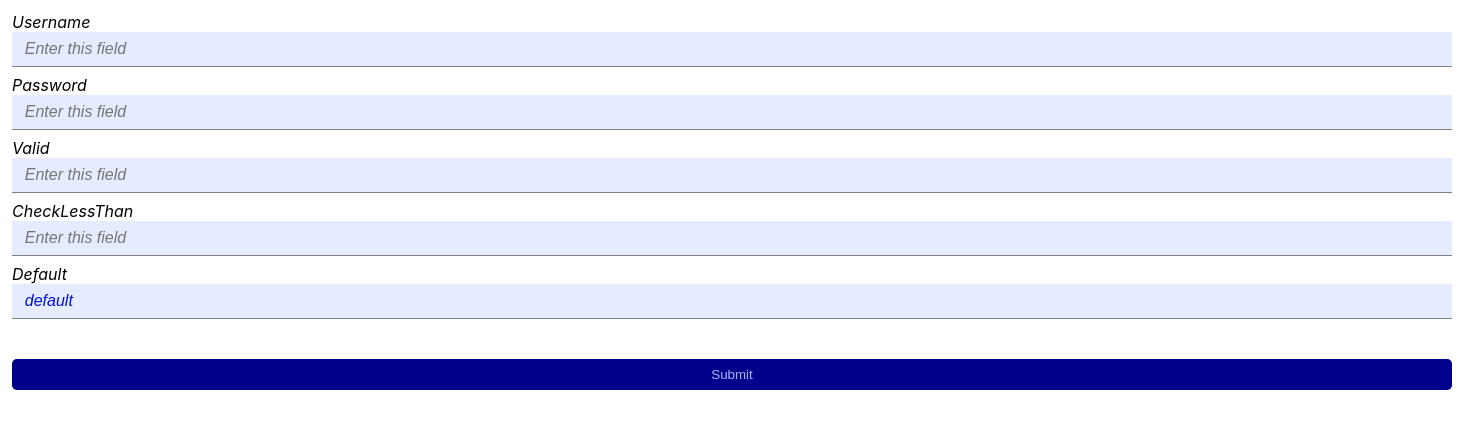
Test: Form testing › should raise error when must match field does not match
Type "password" into the password field with test id "password" at [732, 112], box [12,95,1452,130]
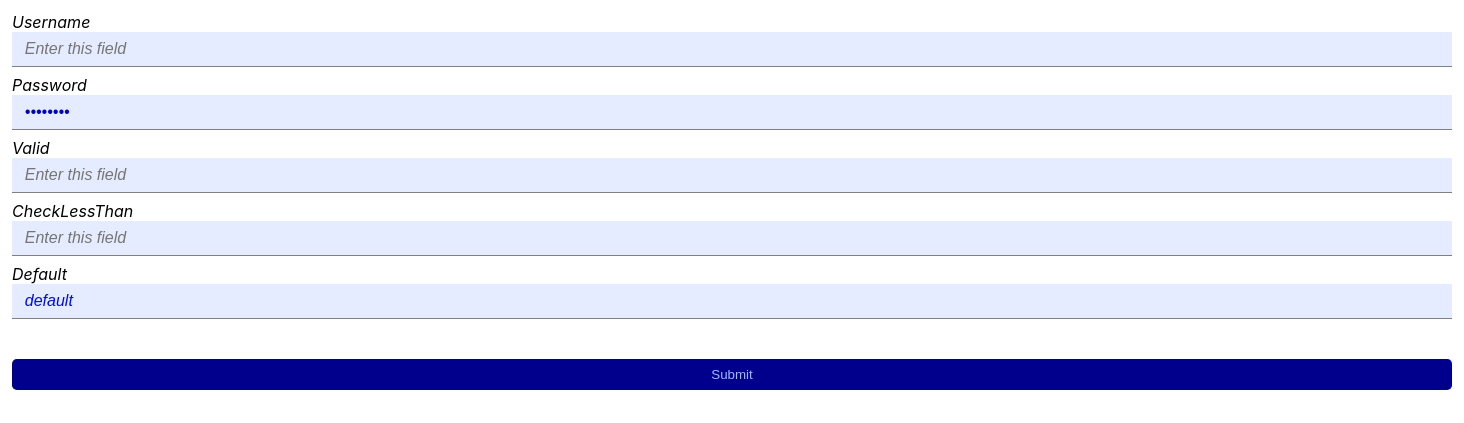
Type "password-wrong" into the field with test id "password-valid" at [732, 176], box [12,158,1452,193]
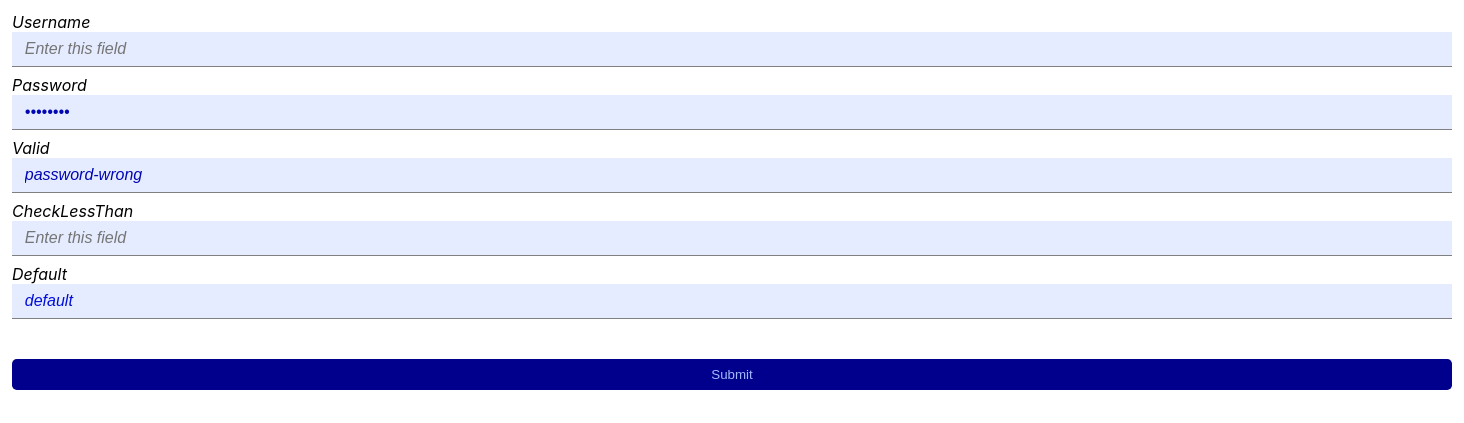
Leave the field with test id "password-valid", box [12,158,1452,193]
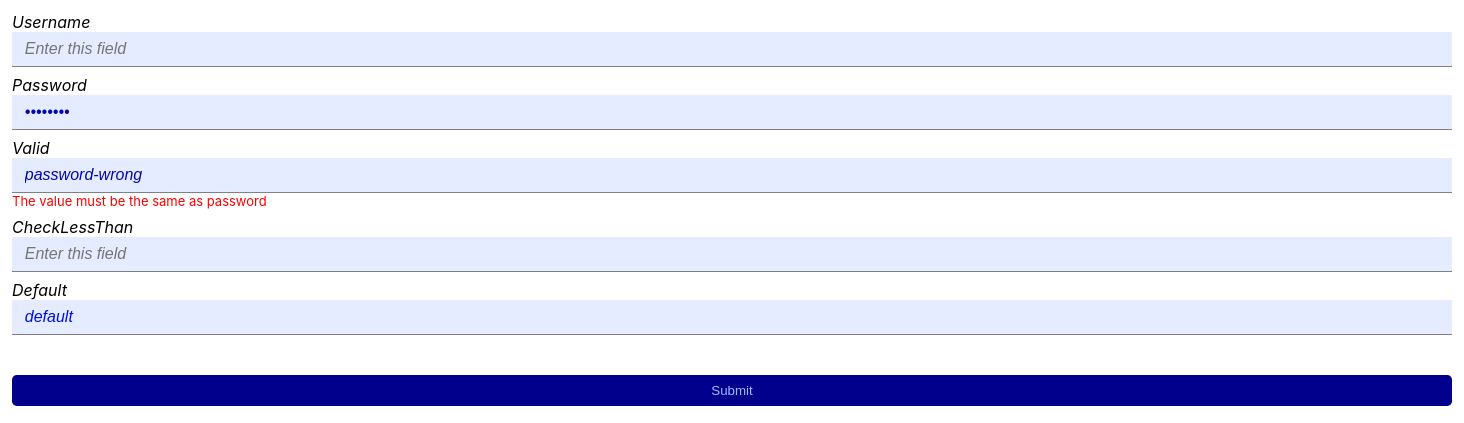
Now the text "The value must be the same as password" is shown, box [12,193,267,209]
